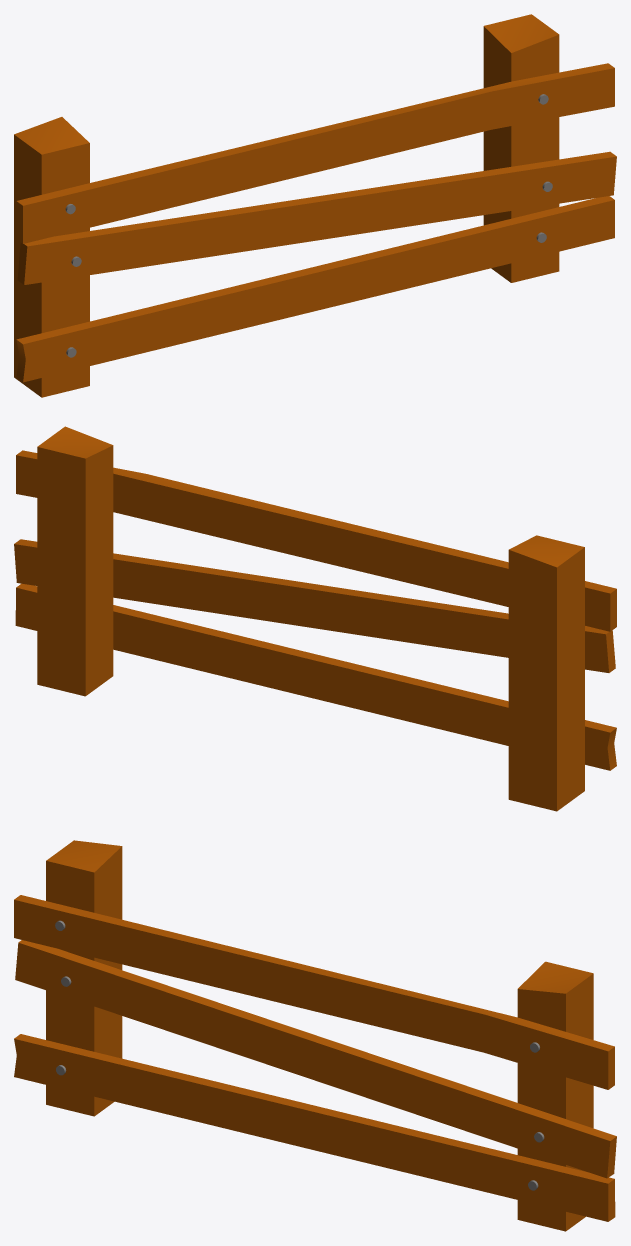
The model's file is Fence.FBX.
3 renders of one model, top to bottom at view 1: azimuth 30°, elevation 25°; view 2: azimuth 150°, elevation 25°; view 3: azimuth 330°, elevation 25°, orthographic.
Visible parts, largest first — view 1: Box002; view 2: Box002; view 3: Box002.
Part boxes in pixels (box(x1,y1,x2,y2)): Box002: box(14, 14, 616, 397); Box002: box(14, 426, 616, 811); Box002: box(14, 840, 616, 1231).
Bounding box in the file's own units: 30.88 × 12.38 × 3.24.
